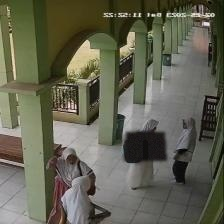Cadar_Niqab: (123, 117, 166, 160)
